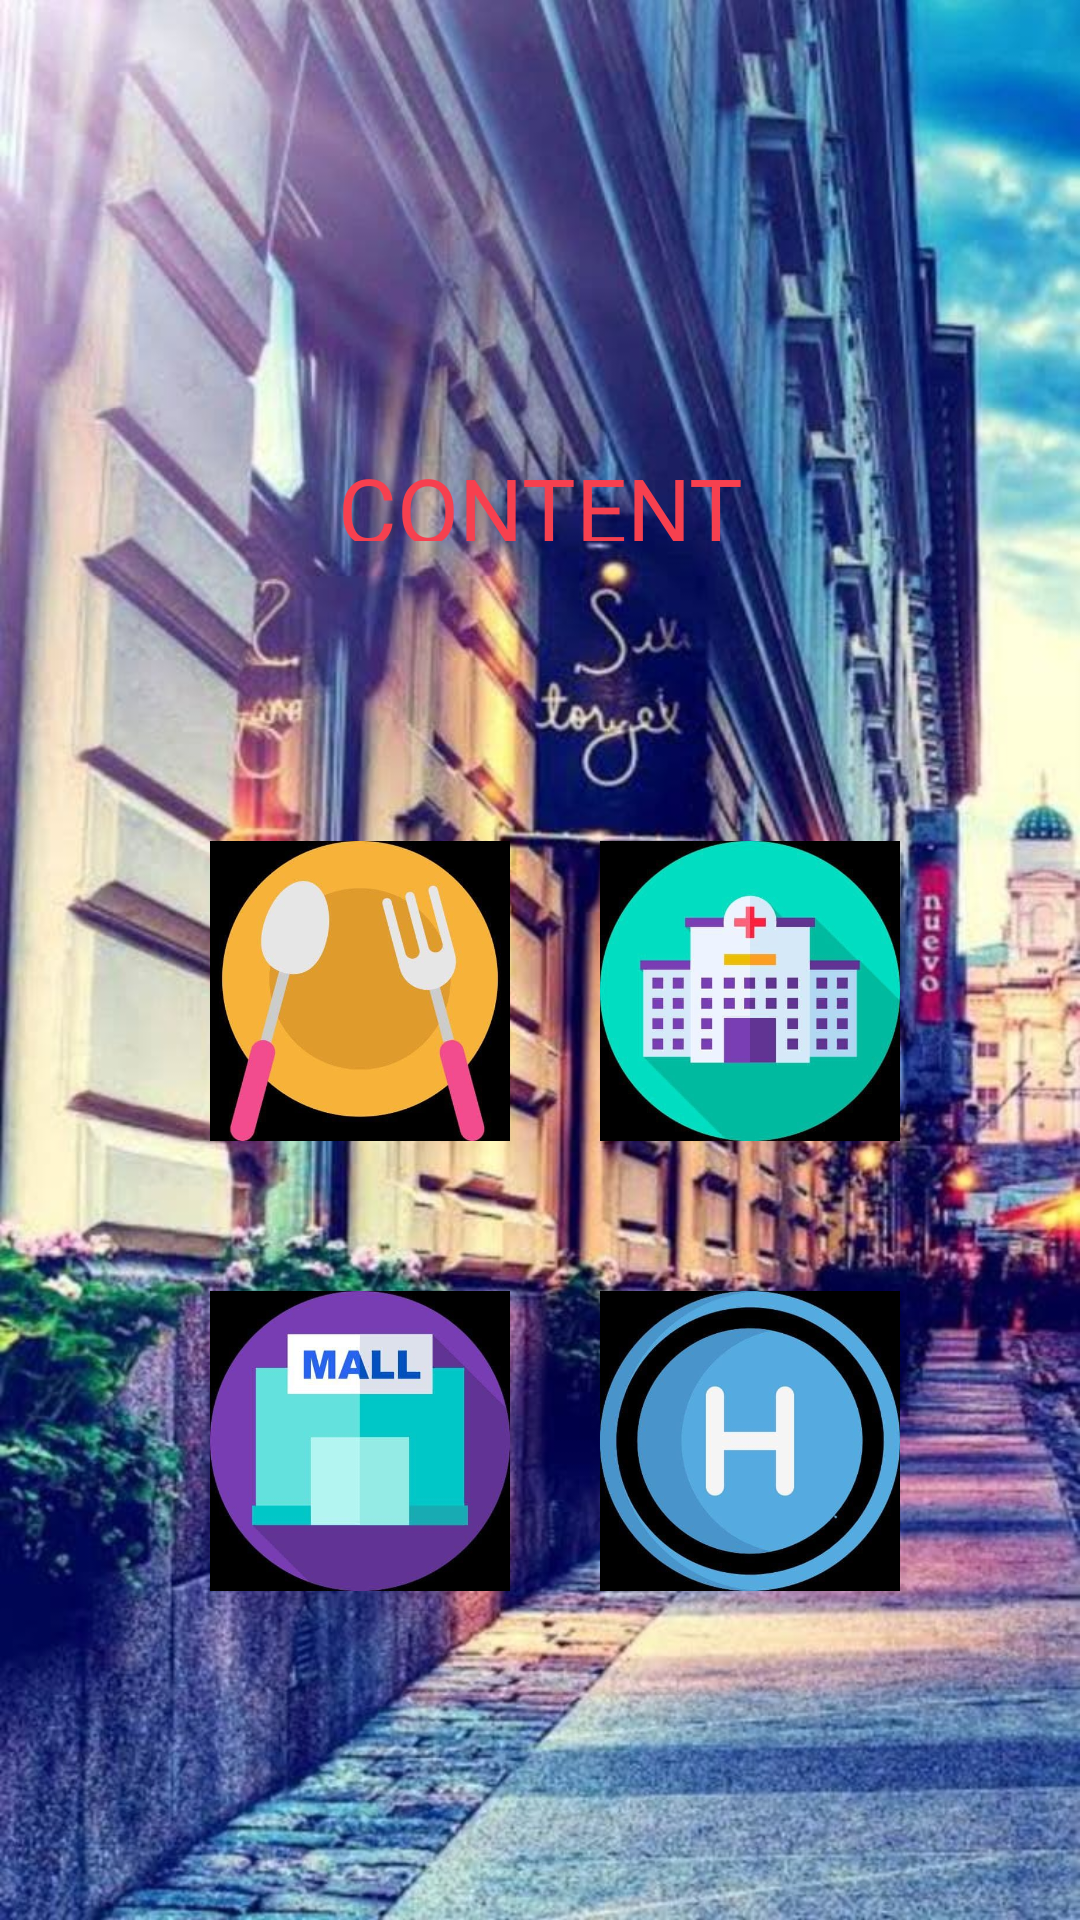

Point at icon controls on the screen. Image size 1080 x 1920, points as [x,y].
hospital: [750,991]
hotel: [750,1441]
restaurant: [360,991]
